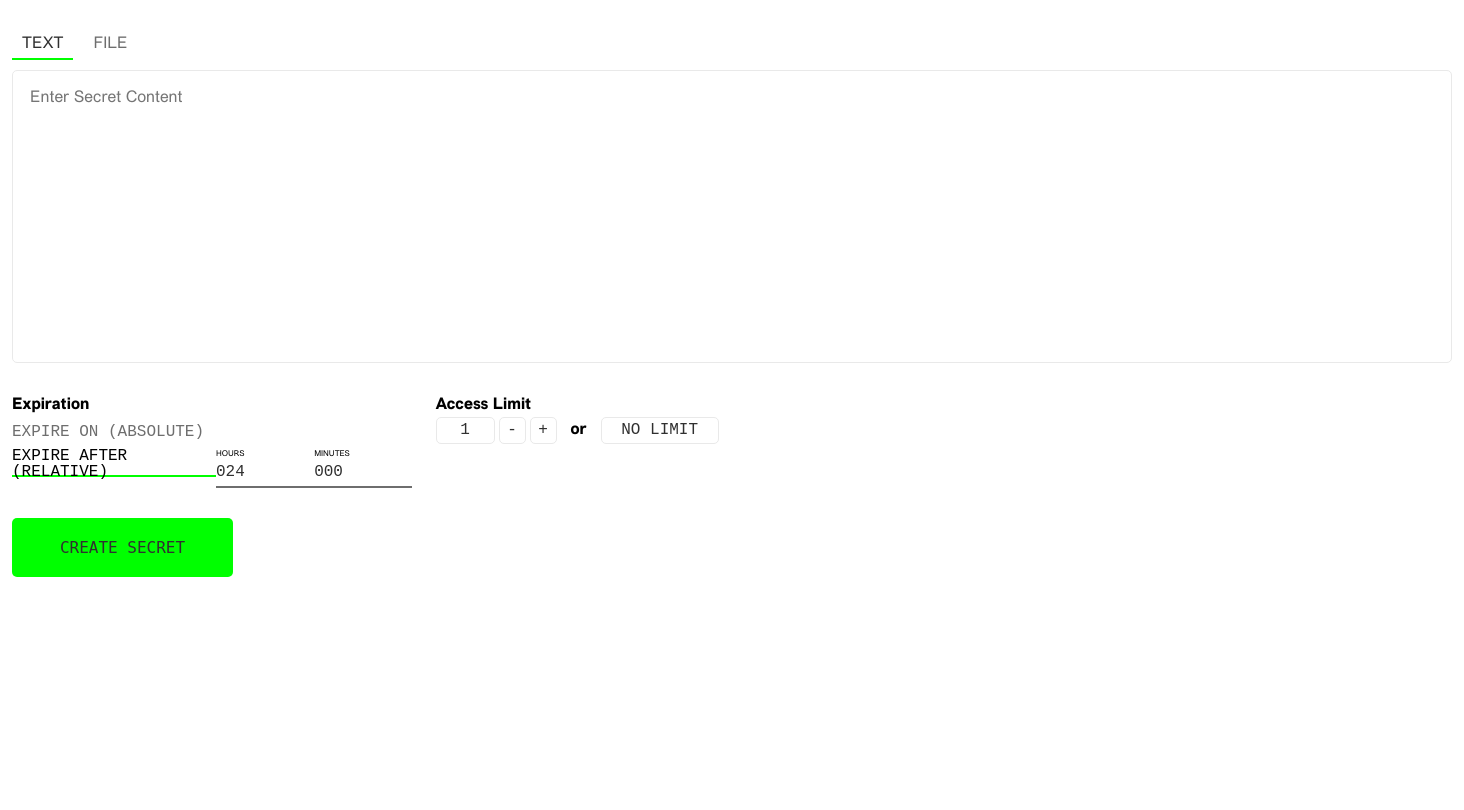
Test case: When rendering CreateSecretForm › and modifying the access limit › should decrement access limit
Expected: the text box with test id "secret-content" is shown, [12,70,1452,363]
Click the button with test id "access-limit-increment-button" at (543, 430), box [530,417,556,444]
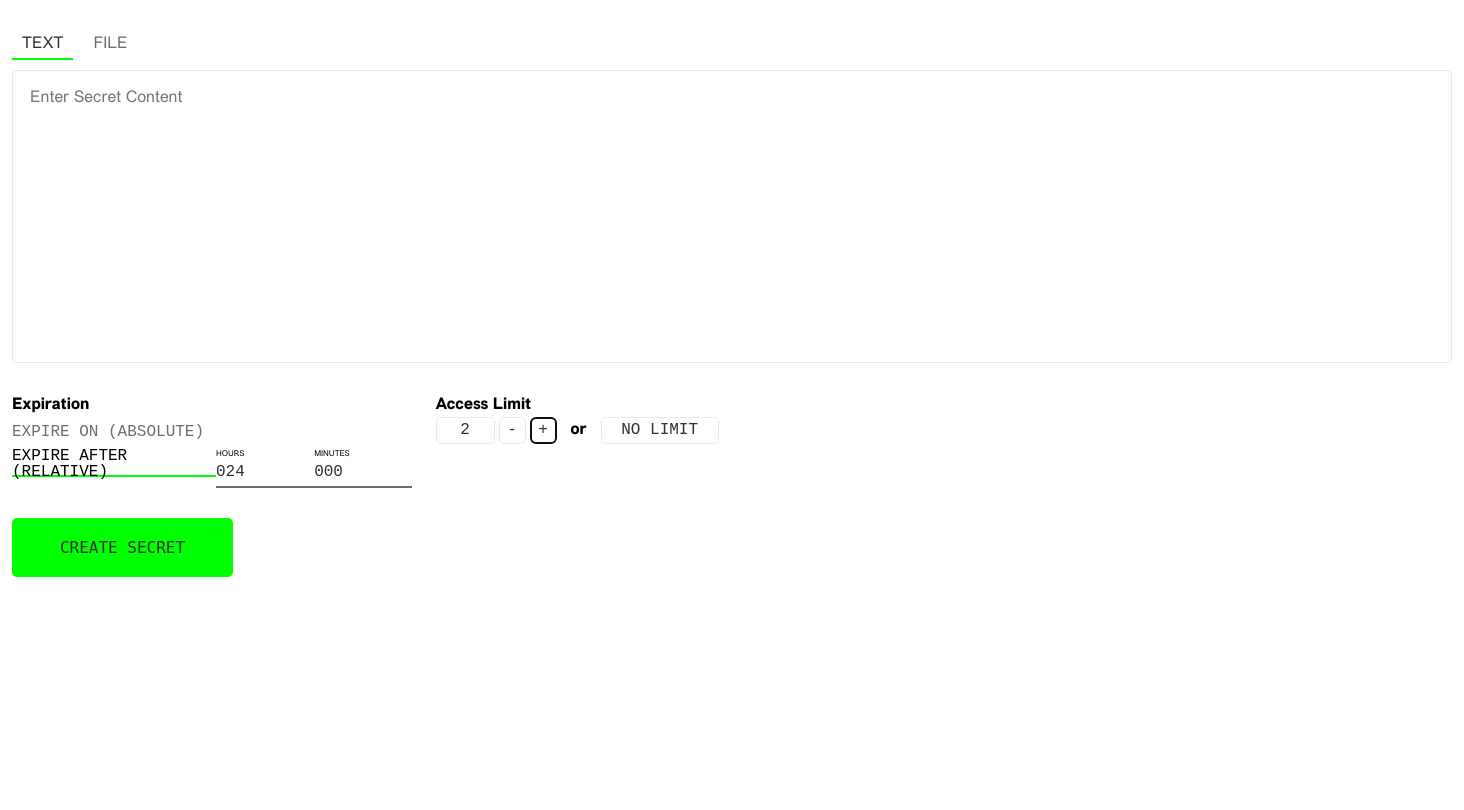
Click the button with test id "access-limit-increment-button" at (543, 430), box [530,417,556,444]
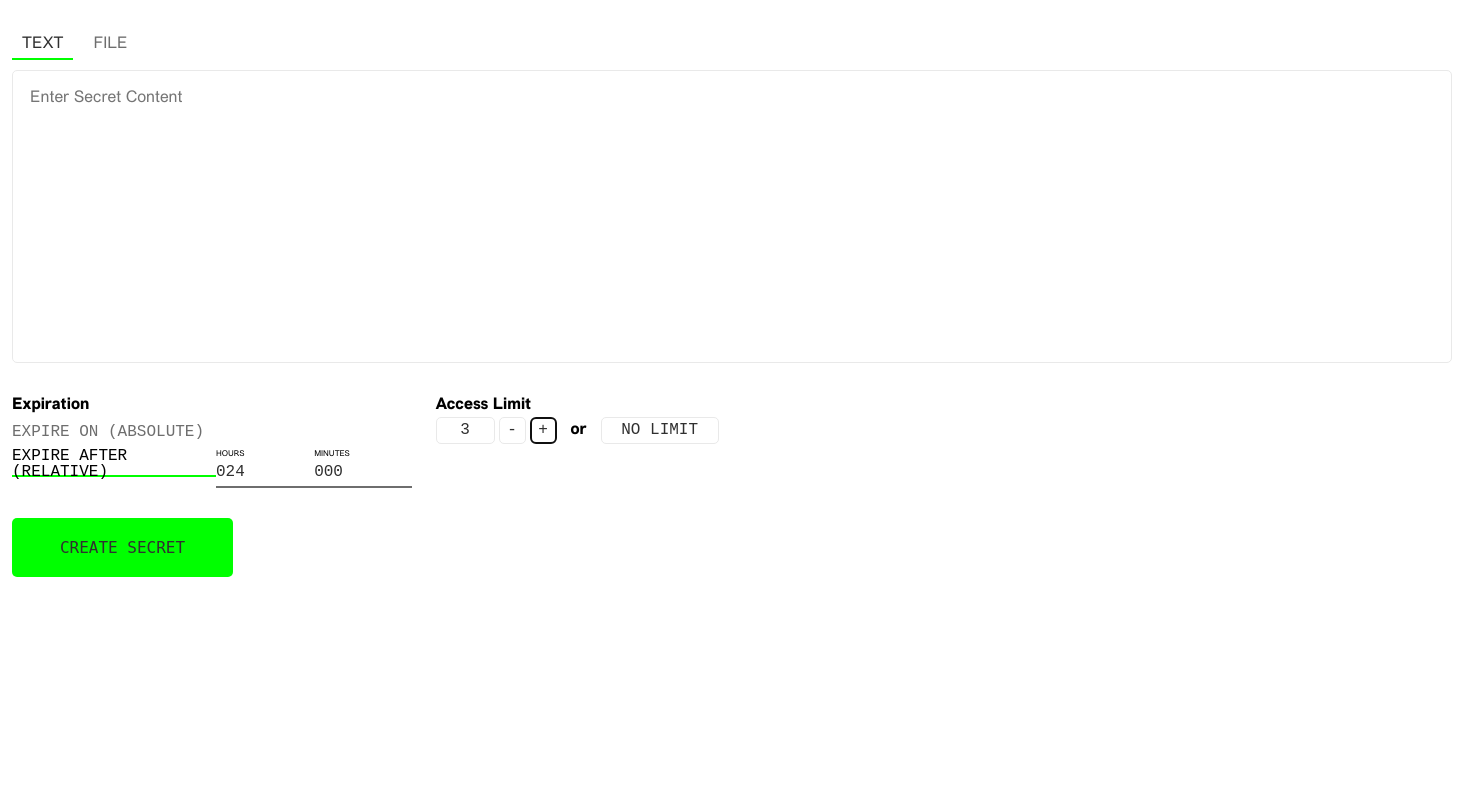
Click the button with test id "access-limit-increment-button" at (543, 430), box [530,417,556,444]
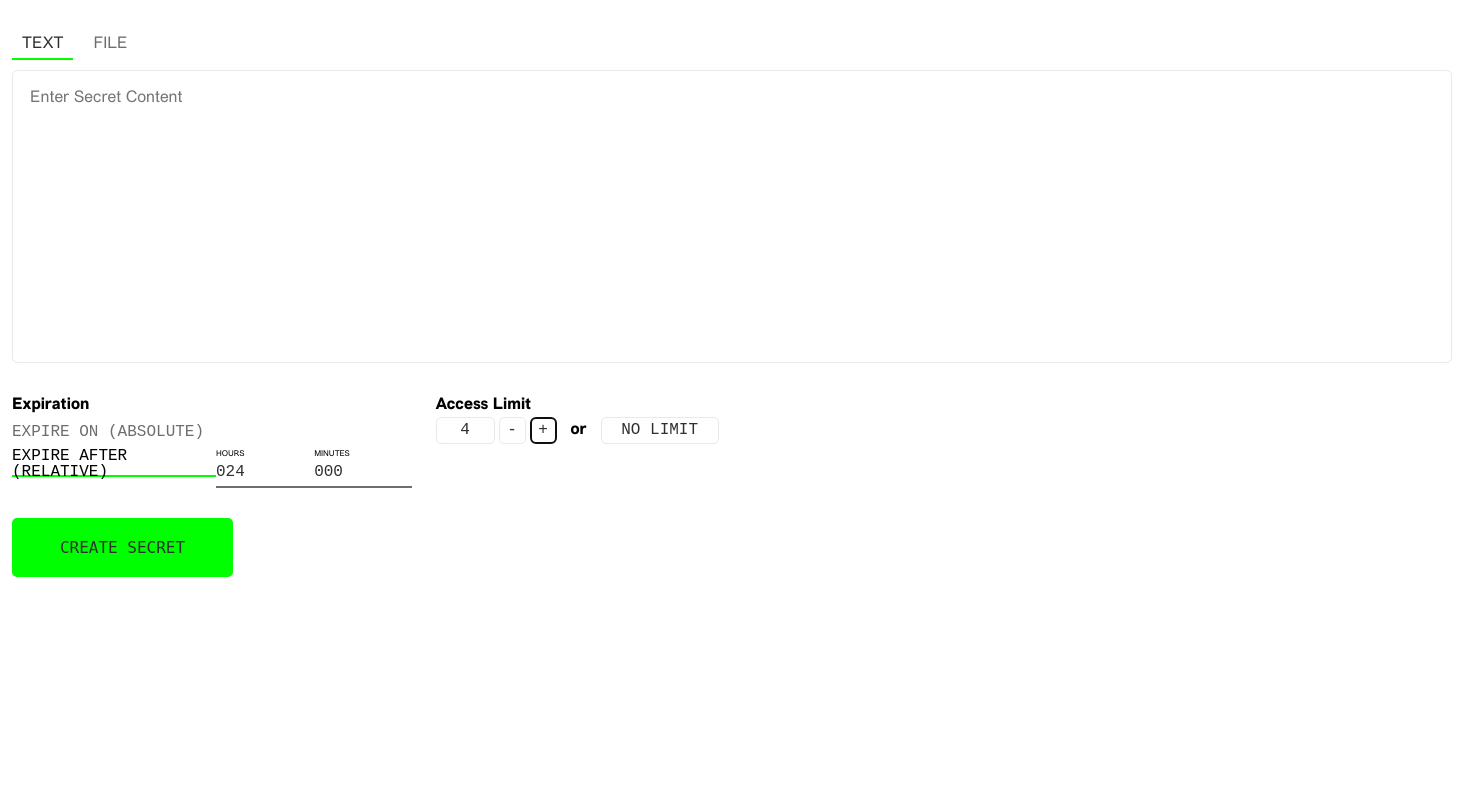
Click the button with test id "access-limit-increment-button" at (543, 430), box [530,417,556,444]
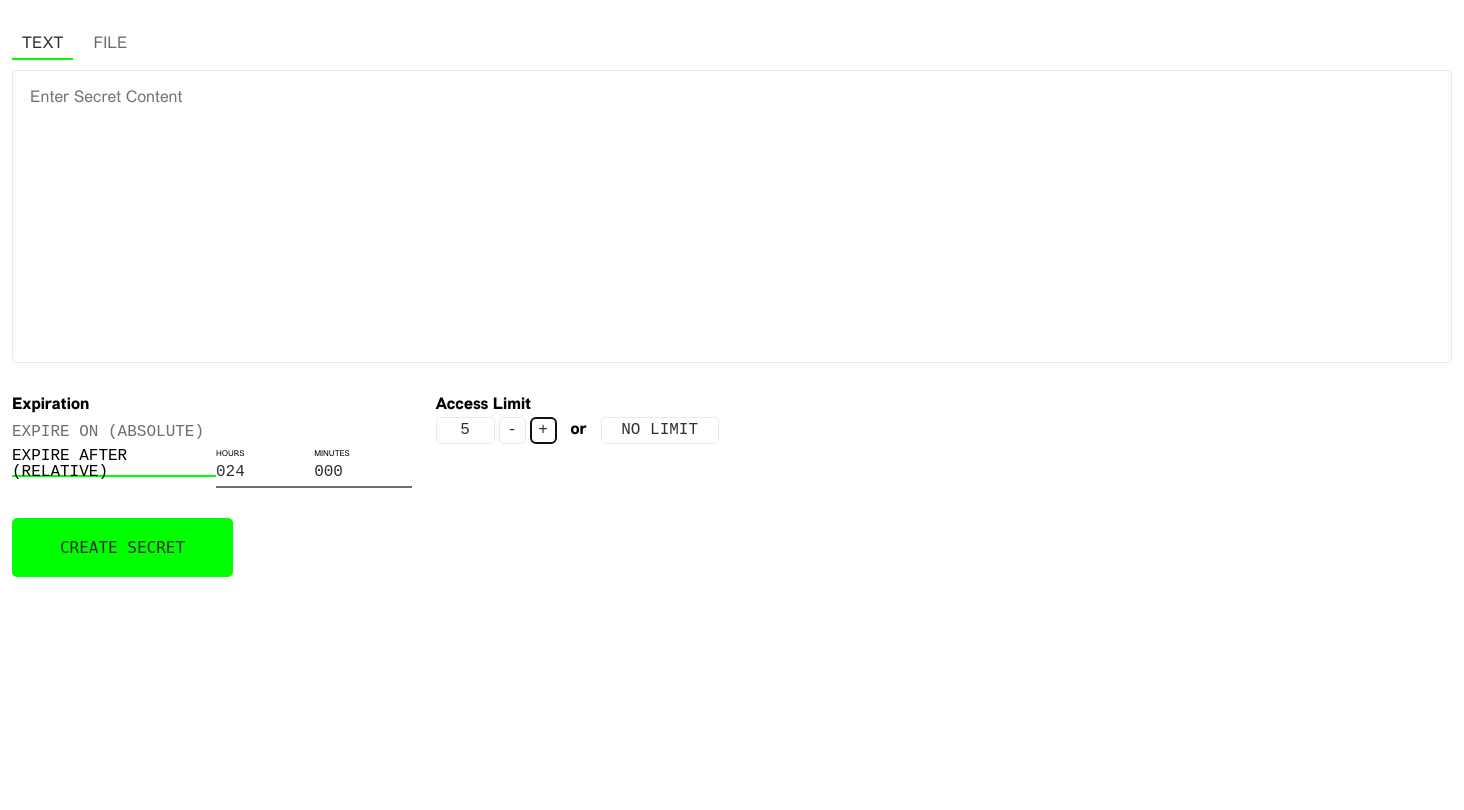
Click the button with test id "access-limit-decrement-button" at (512, 430), box [498,417,526,444]
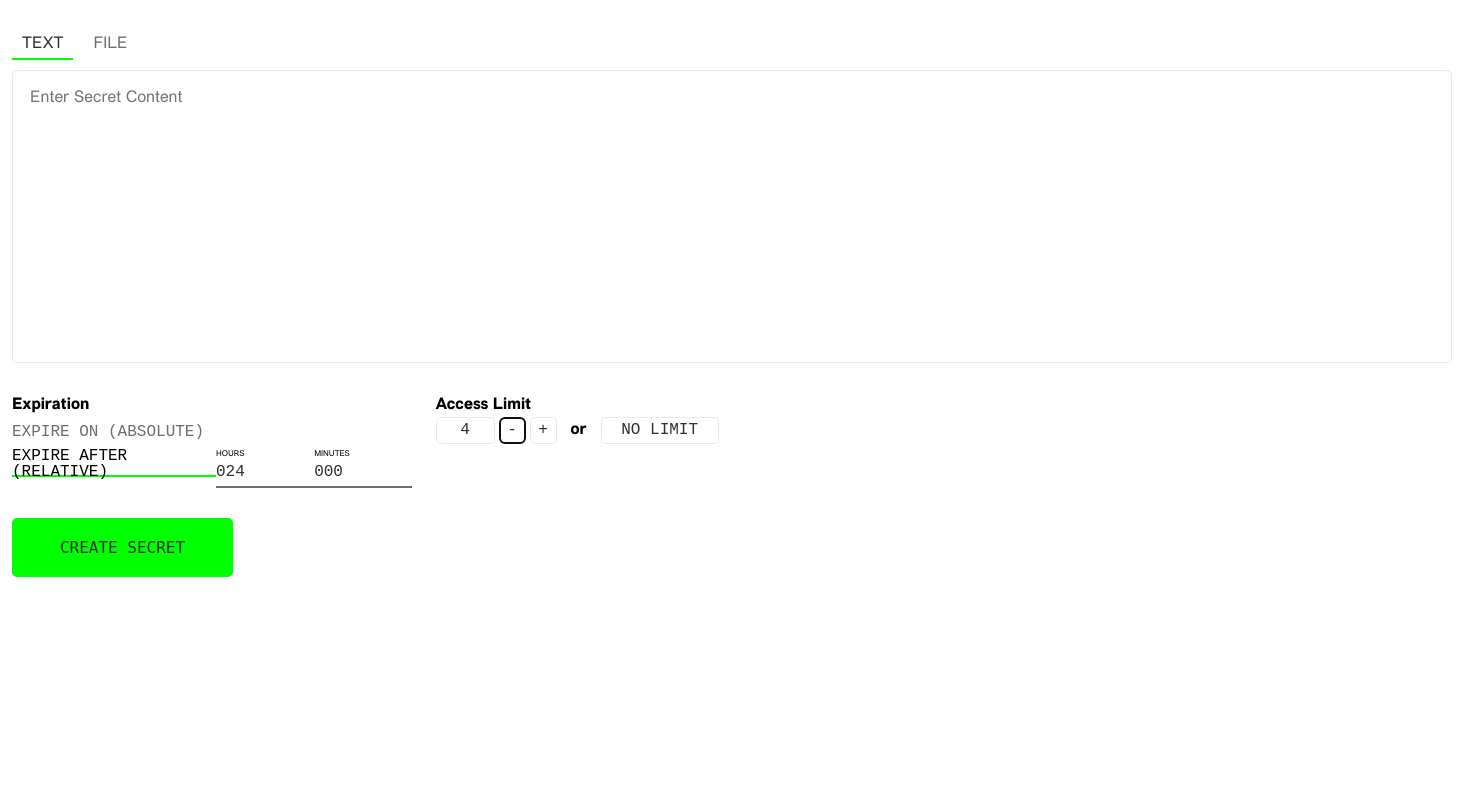
Click the button with test id "access-limit-decrement-button" at (512, 430), box [498,417,526,444]
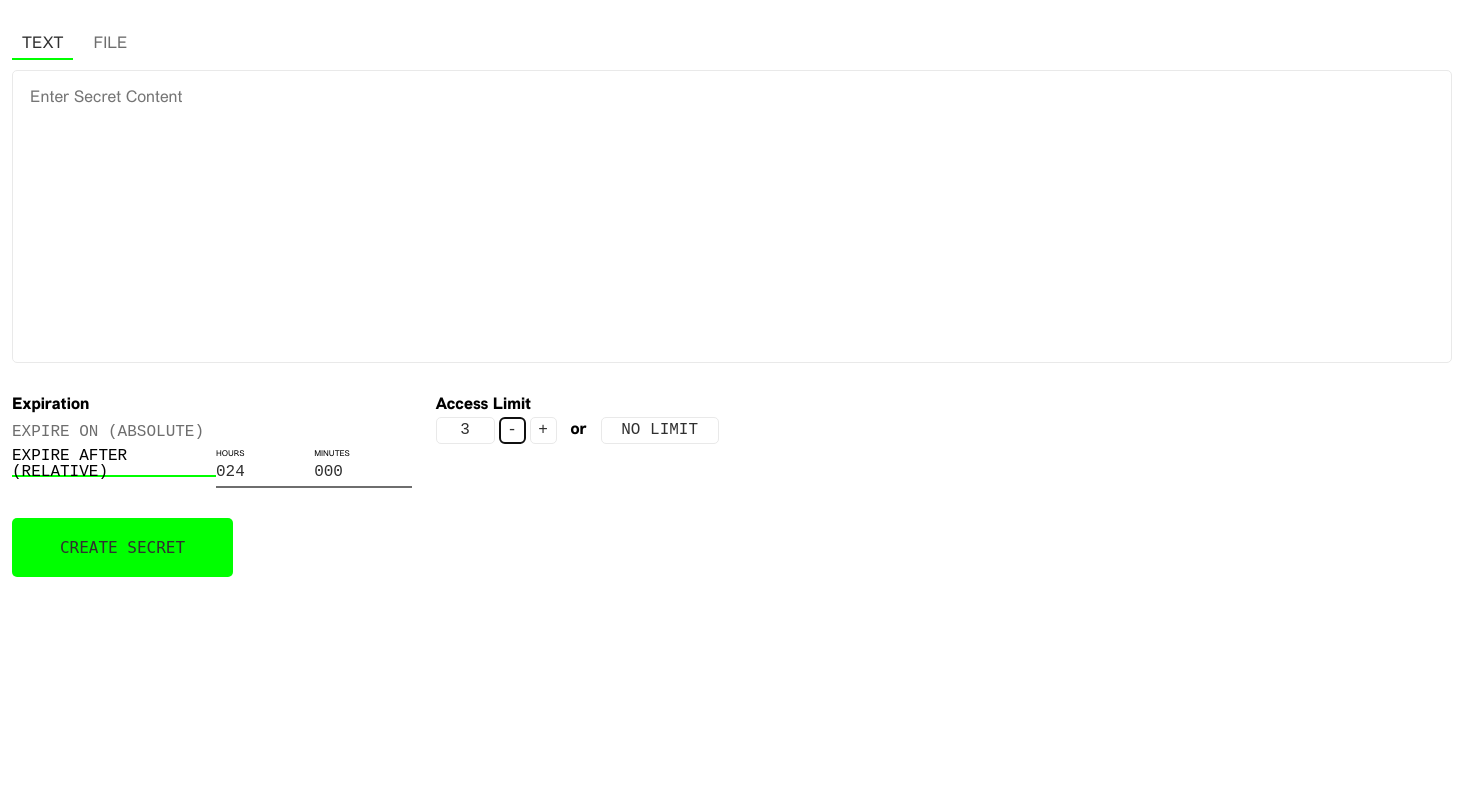
Expected: the field with test id "access-limit-input" holds "3", [436,417,494,444]
